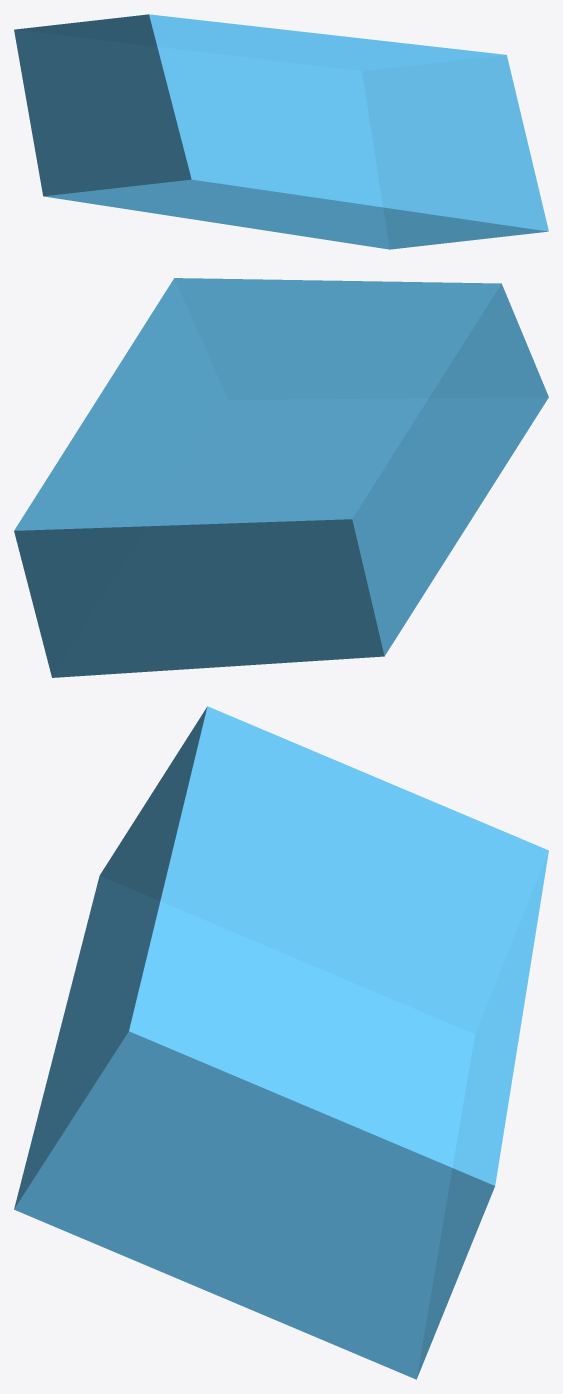
File: Event_420107950_HErechit_17.fbx
The picture shows the model from 3 angles, top to bottom: view 1: azimuth 30°, elevation 25°; view 2: azimuth 150°, elevation 25°; view 3: azimuth 270°, elevation 25°; orthographic projection. The views are drawn at different scales.
Parts seen in each view (by area): view 1: Model; view 2: Model; view 3: Model.
Part boxes in pixels (bbox=[...]): Model: bbox=[14, 14, 548, 249]; Model: bbox=[14, 278, 548, 677]; Model: bbox=[14, 706, 548, 1379].
Bounding box in the file's own units: 0.7396 × 0.8104 × 0.8291.
